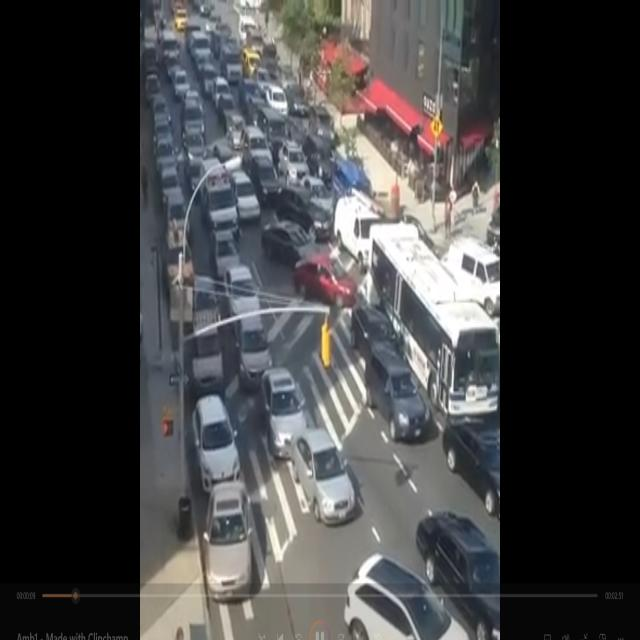Ambulance: (192, 151, 240, 235)
